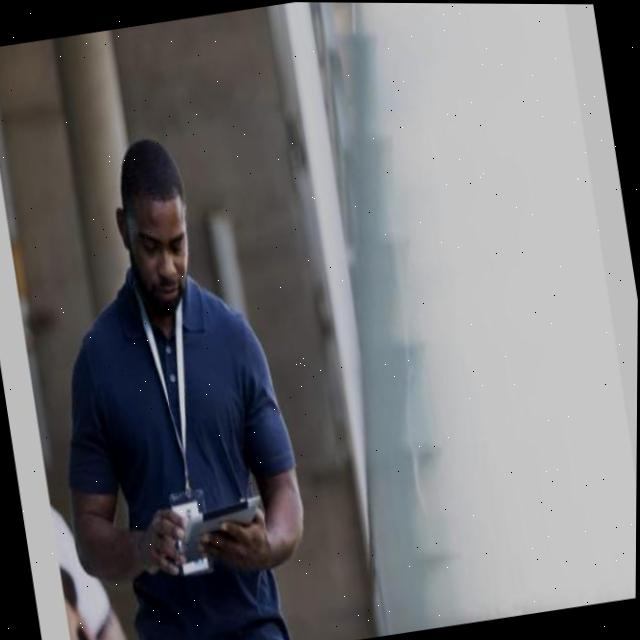id_card: (131, 295, 228, 585)
